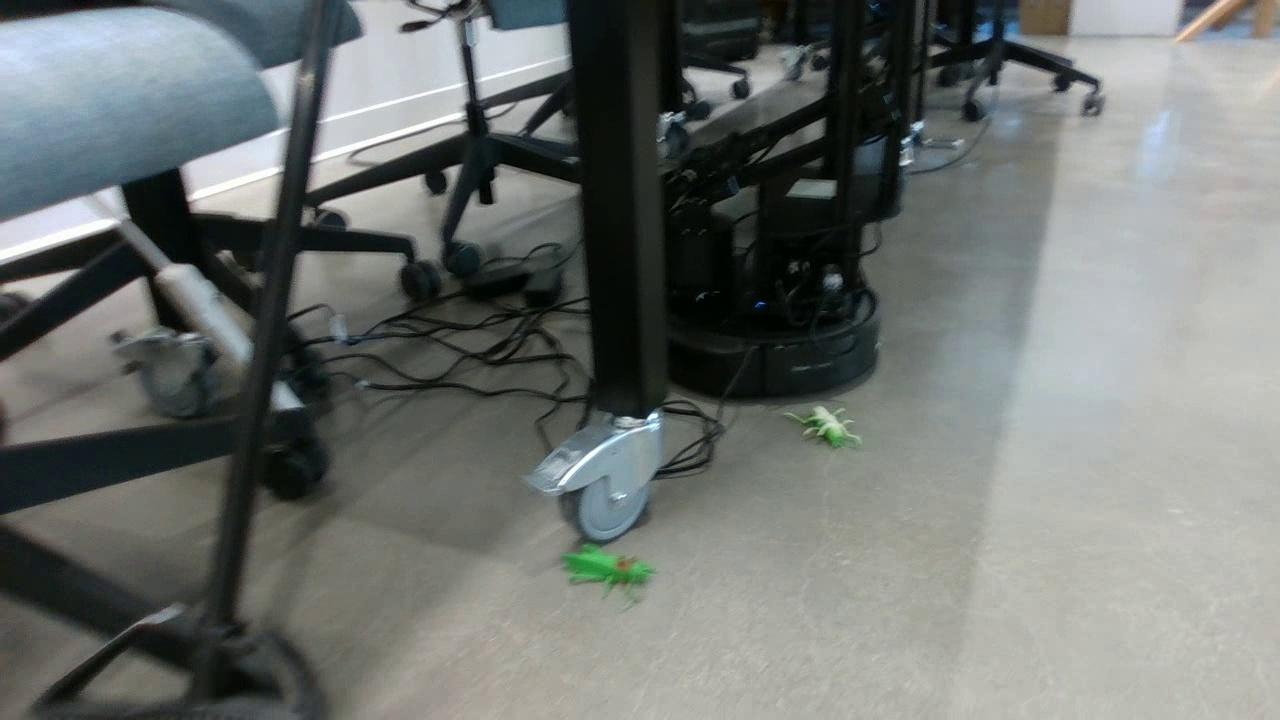grasshopper: (552, 538, 651, 616), (781, 400, 862, 448)
